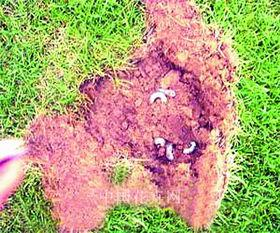grub: (147, 85, 177, 108)
